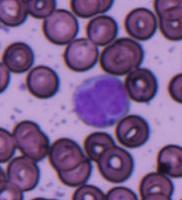M: (72, 73, 130, 127)
